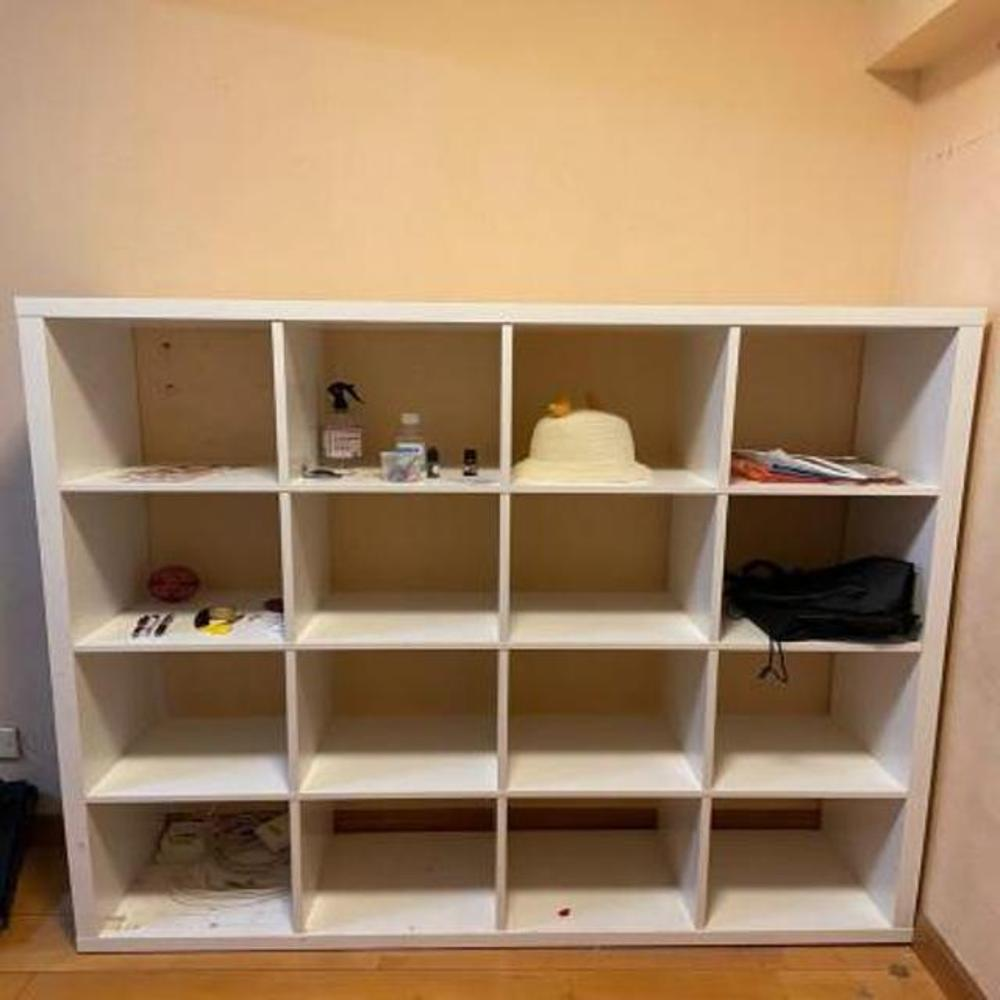lamp: (8, 297, 995, 958)
